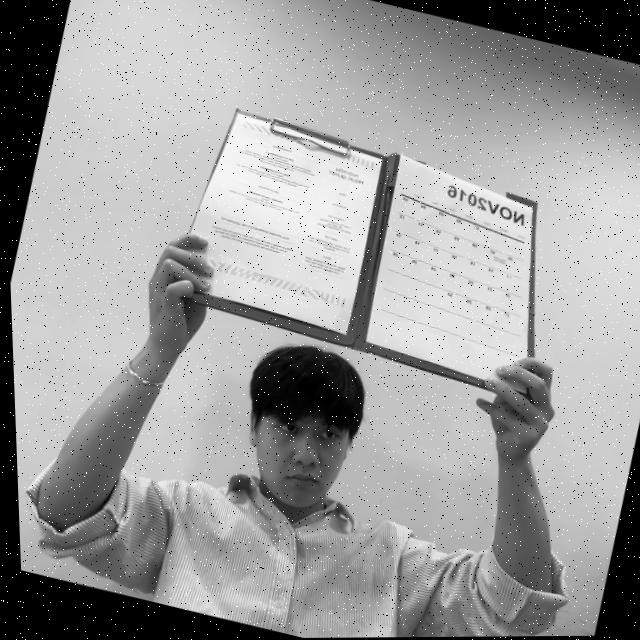document: (170, 113, 381, 335), (365, 155, 532, 393)
face: (236, 395, 360, 522)
